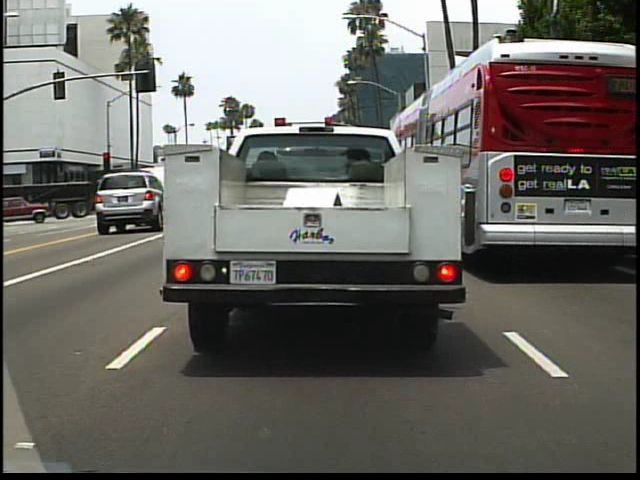person: (22, 193, 41, 227)
